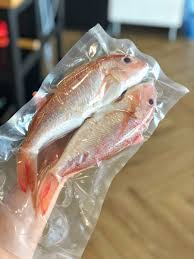Ikan Kerisi: (23, 83, 169, 199), (15, 35, 155, 83)
